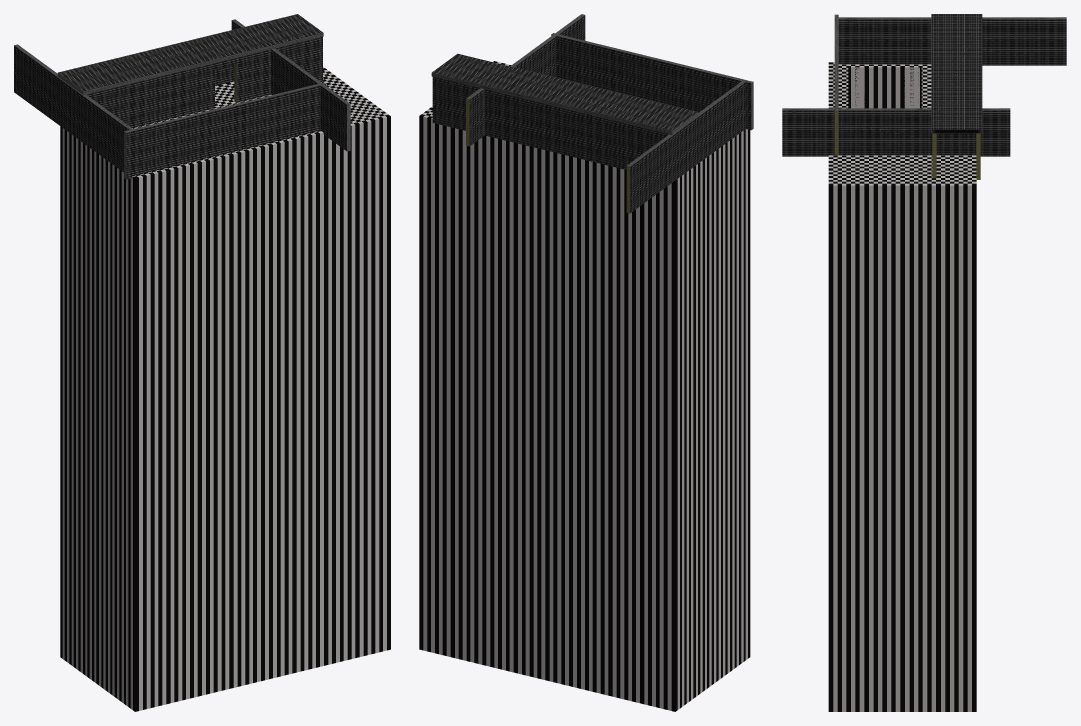
The model's file is trainstation.glb.
3 renders of one model, left to right at view 1: azimuth 30°, elevation 25°; view 2: azimuth 150°, elevation 25°; view 3: azimuth 270°, elevation 25°, orthographic.
Parts seen in each view (by area): view 1: Plane, Cube.003, Cube, Cube.002, Cube.004, Cube.005; view 2: Plane, Cube.001, Cube.003, Cube.002, Cube.004, Cube.005; view 3: Plane, Cube.005, Cube.004, Cube.002, Cube.003.
Boxes of the visible parts, bbox=[...] form: Plane: bbox=[60, 67, 390, 711]; Cube.003: bbox=[124, 82, 325, 179]; Cube: bbox=[87, 37, 322, 127]; Cube.002: bbox=[57, 14, 323, 95]; Cube.004: bbox=[14, 44, 132, 172]; Cube.005: bbox=[231, 19, 350, 151]; Plane: bbox=[419, 61, 750, 711]; Cube.001: bbox=[432, 76, 668, 169]; Cube.003: bbox=[551, 33, 753, 130]; Cube.002: bbox=[431, 53, 698, 134]; Cube.004: bbox=[626, 81, 745, 213]; Cube.005: bbox=[466, 14, 585, 146]; Plane: bbox=[828, 62, 976, 711]; Cube.005: bbox=[782, 108, 1010, 156]; Cube.004: bbox=[838, 17, 1066, 65]; Cube.002: bbox=[931, 14, 982, 133]; Cube.003: bbox=[834, 14, 838, 155].
Size of the model in its own units: 24.44 by 51.91 by 23.28.
Materials: 6 (1 with a texture image).
